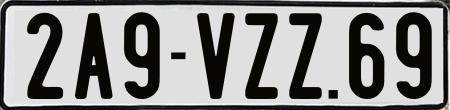2: (25, 12, 64, 102)
6: (349, 13, 384, 105)
9: (123, 12, 165, 99), (393, 9, 434, 96)
A: (75, 11, 113, 102)
V: (197, 11, 240, 101)
Z: (243, 11, 279, 100), (288, 10, 321, 98)
